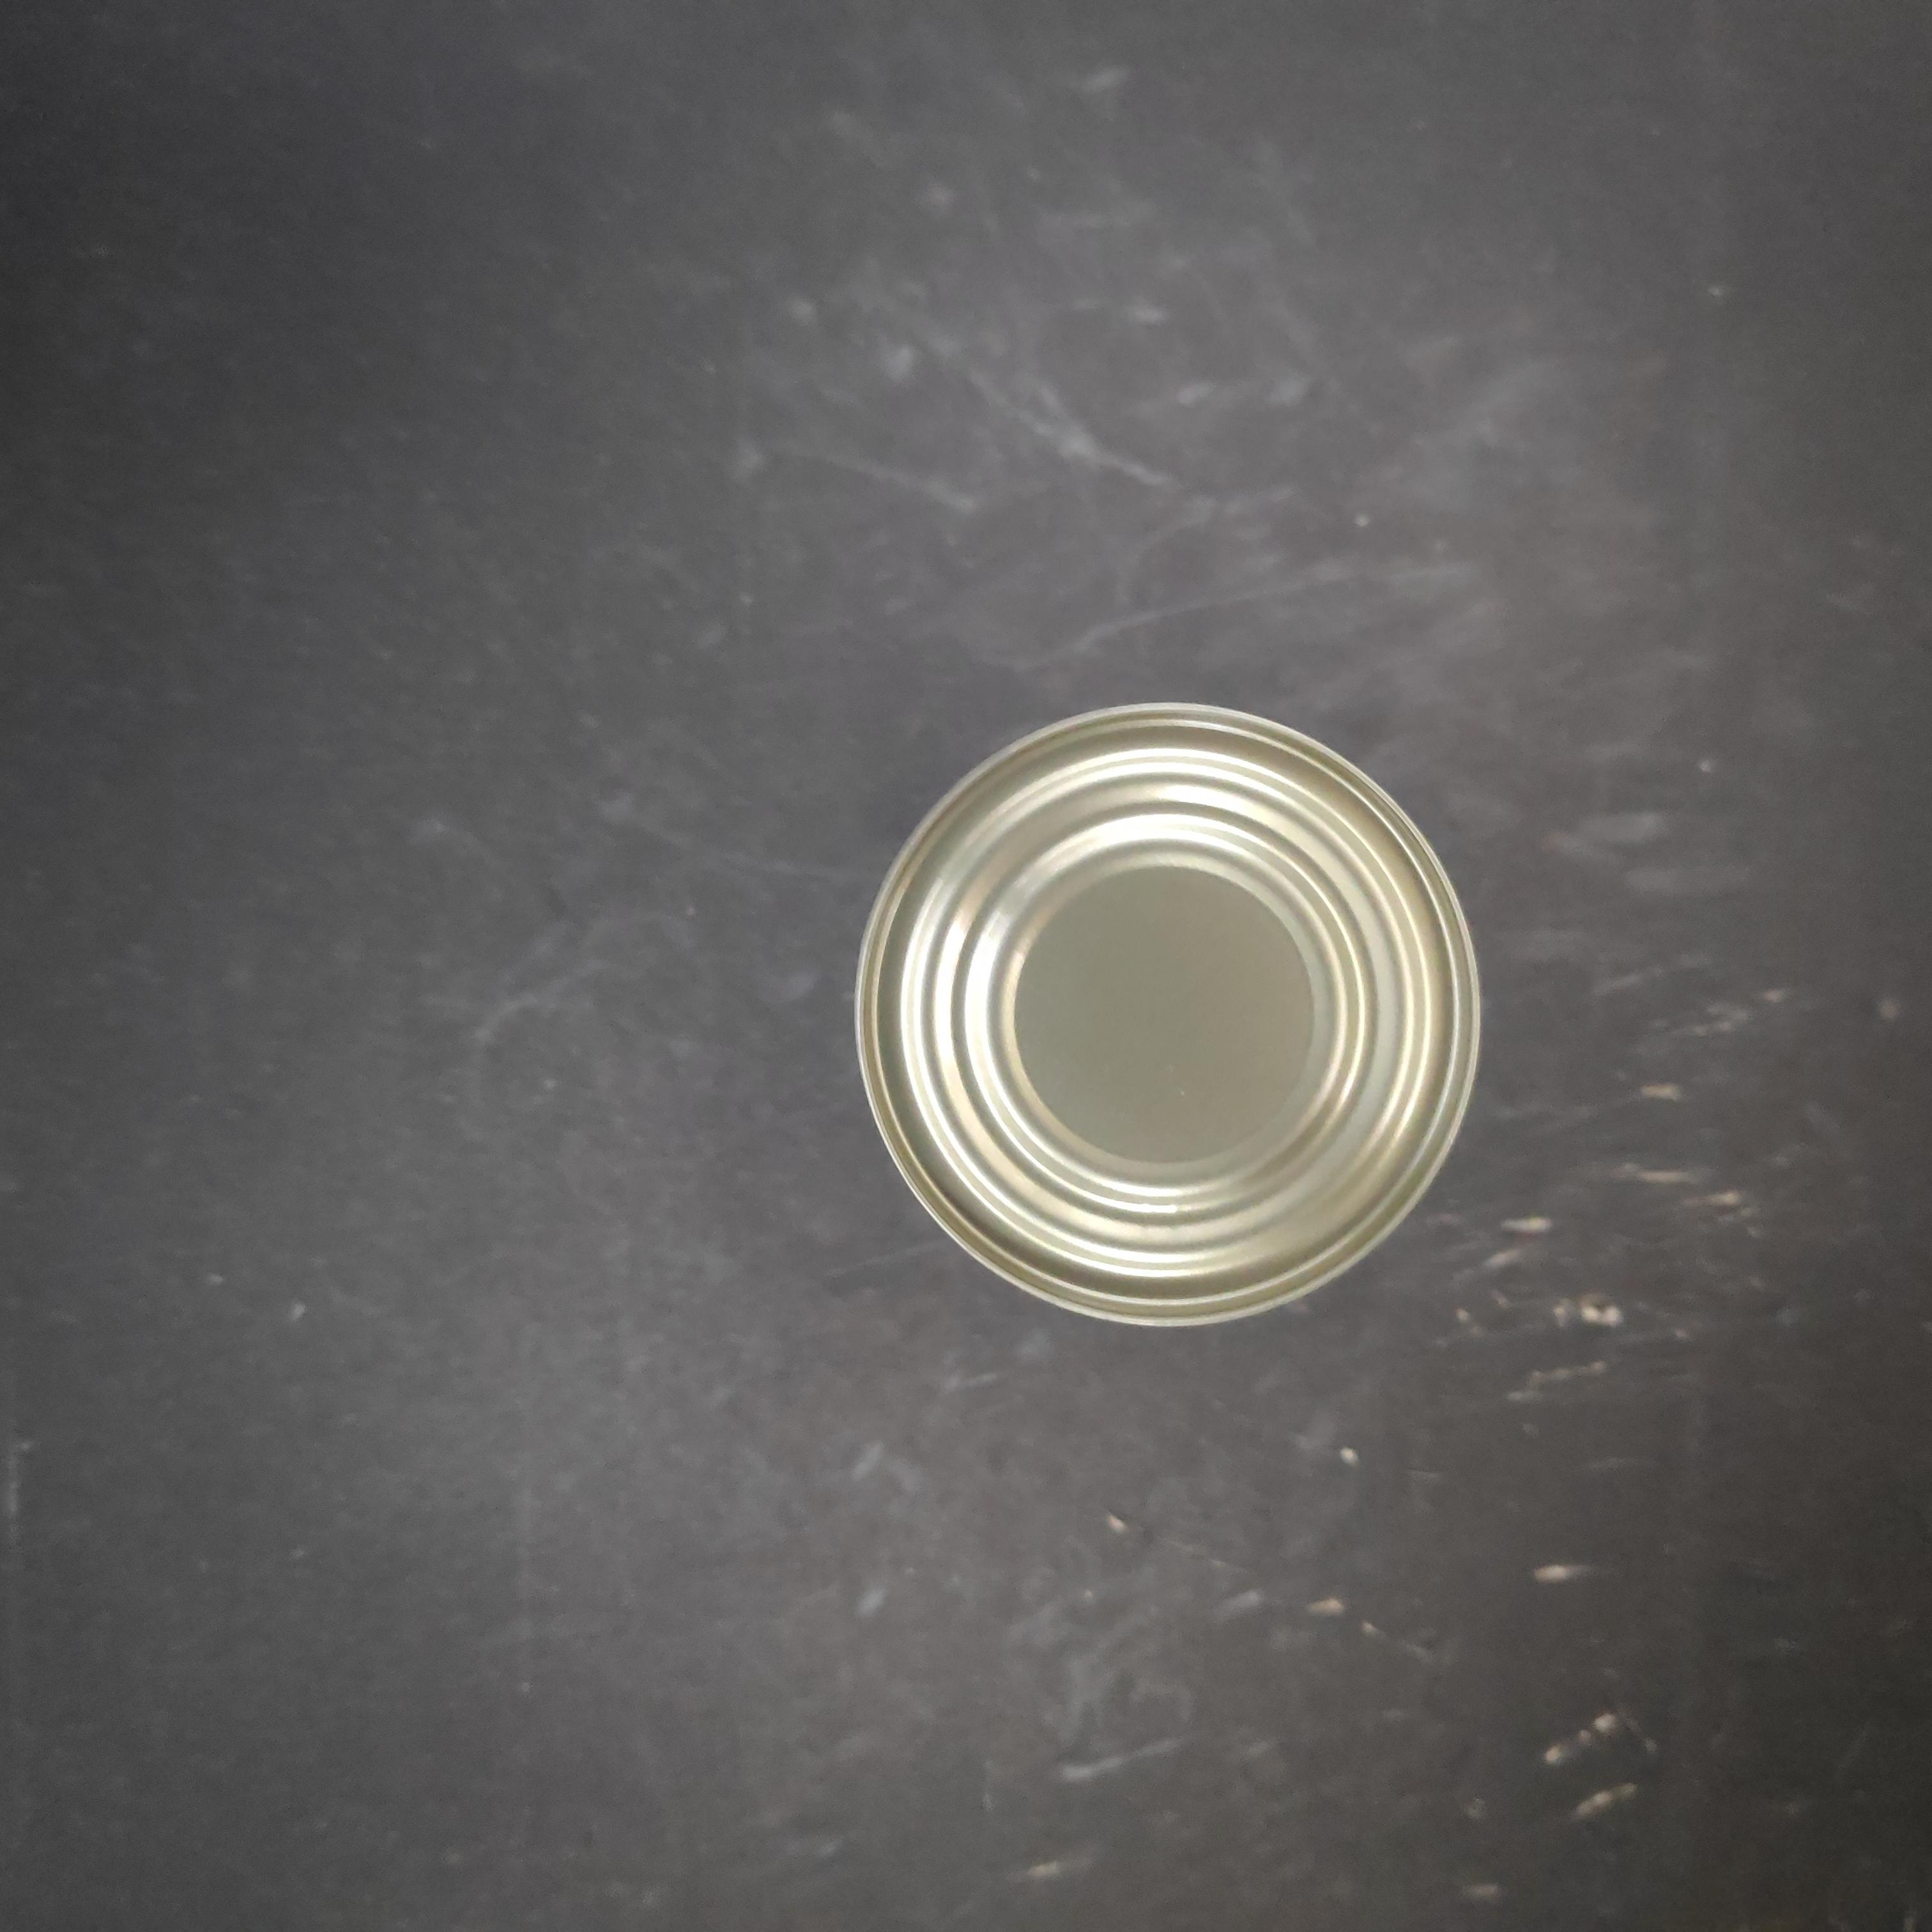No defect: (598, 847, 1238, 1493)
